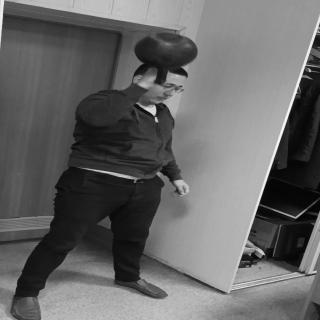kettlebell: (138, 35, 202, 86)
